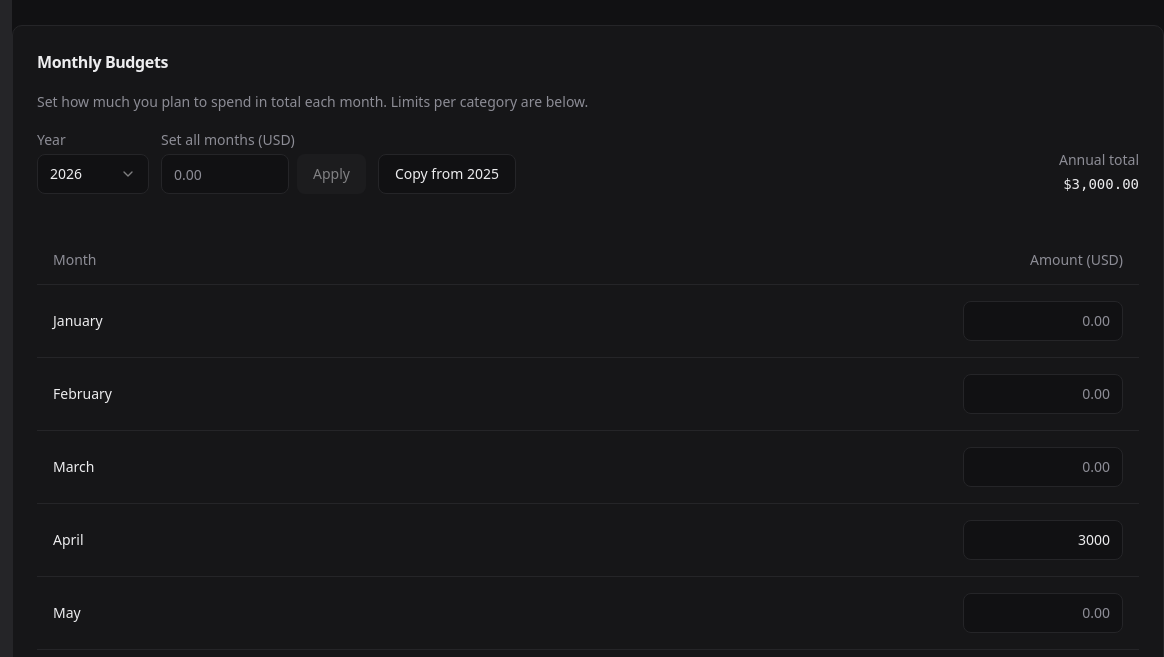
Test: Budgets page › Monthly Budgets panel — as admin › a pending clear counts as an unsaved change
The width and height of the screenshot is (1164, 657).
Clear the number field named "Budget for April 2026" at (1043, 540), box [963,520,1123,560]
(page scrolled)
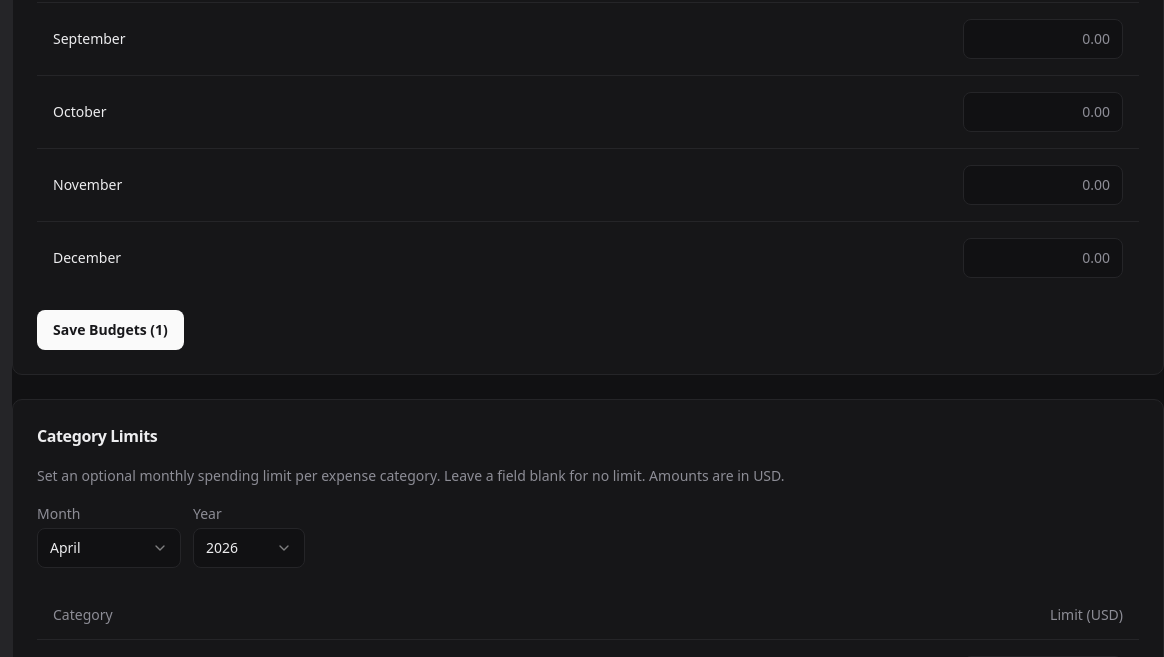
Now the button "Save Budgets (1)" is shown, box [37,310,184,350]
